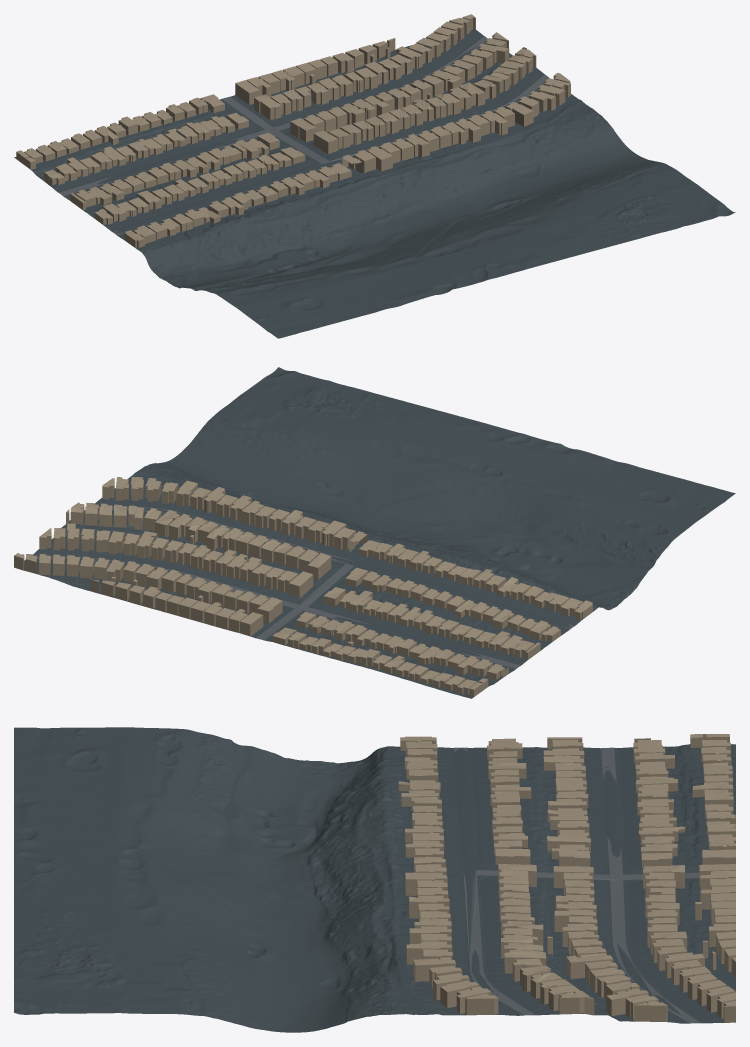
Rendered from epsg26910-1421-10868.lod0.glb.
3 views of the same model, one above another, from view 1: azimuth 30°, elevation 25°; view 2: azimuth 150°, elevation 25°; view 3: azimuth 270°, elevation 25° (orthographic). The views are drawn at different scales.
Visible parts, largest first — view 1: epsg26910-1421-10868-lod0; view 2: epsg26910-1421-10868-lod0; view 3: epsg26910-1421-10868-lod0.
Boxes of the visible parts, x1,y1,x2,y2 form: epsg26910-1421-10868-lod0: (14, 14, 735, 338); epsg26910-1421-10868-lod0: (14, 367, 735, 698); epsg26910-1421-10868-lod0: (14, 727, 735, 1032).
Size of the model in its own units: 384 by 41.61 by 384.
